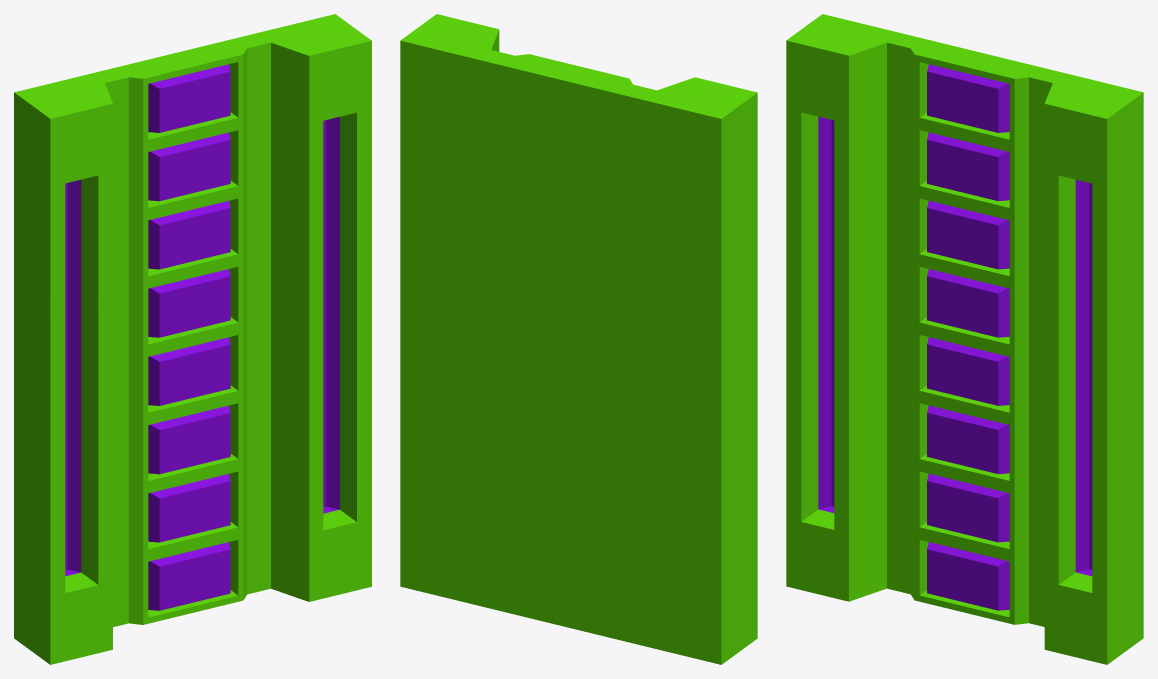
File: GothicWallV3UVID.fbx
3 renders of one model, left to right at view 1: azimuth 30°, elevation 25°; view 2: azimuth 150°, elevation 25°; view 3: azimuth 330°, elevation 25°, orthographic.
Visible parts, largest first — view 1: GothicWallV3; view 2: GothicWallV3; view 3: GothicWallV3.
Boxes of the visible parts, x1,y1,x2,y2 form: GothicWallV3: (14, 14, 371, 664); GothicWallV3: (400, 14, 757, 664); GothicWallV3: (786, 14, 1143, 664).
Size of the model in its own units: 199 by 323 by 39.15.
